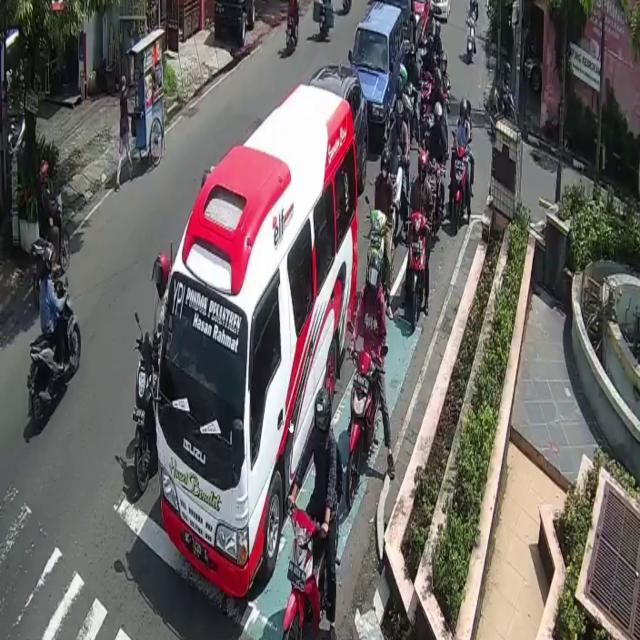bus: (27, 276, 82, 434), (285, 501, 332, 640), (349, 347, 380, 502), (134, 344, 159, 492), (34, 200, 71, 298), (363, 209, 390, 312), (409, 216, 427, 329), (487, 86, 517, 135), (452, 143, 468, 227)
car: (157, 82, 358, 594)
motorcycle: (351, 0, 407, 144), (312, 62, 370, 184)
